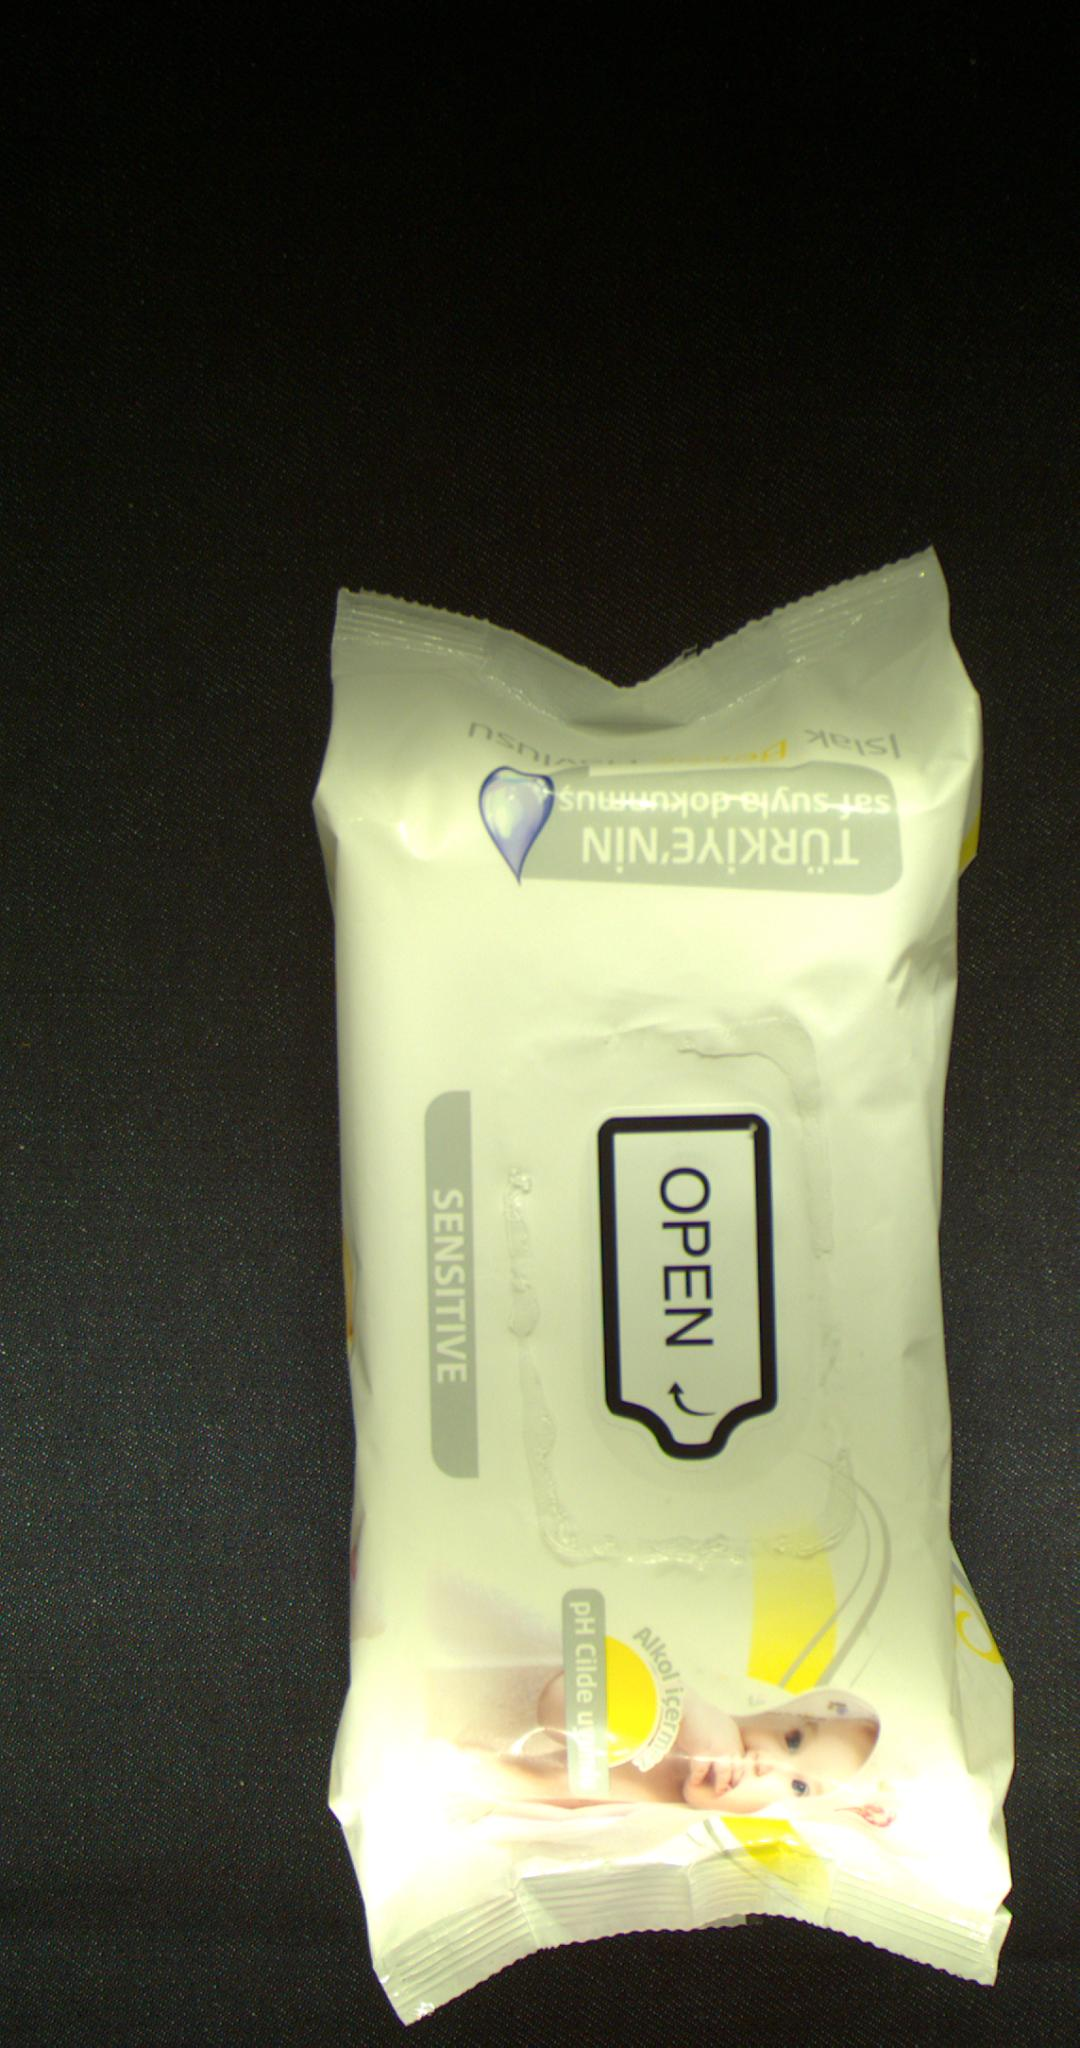hatali-kapak: (547, 1025, 836, 1502)
